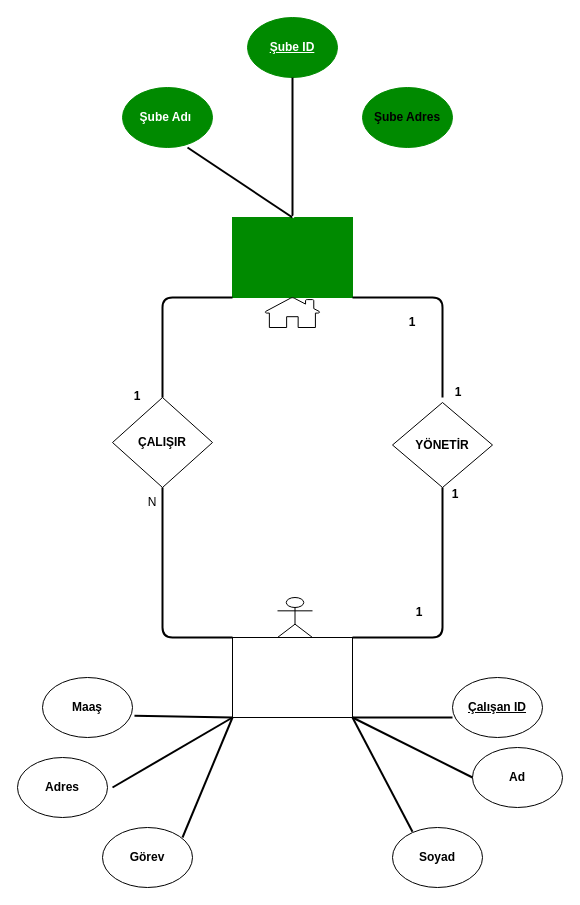
Some shapes in this 580 by 905 pixel diagram are drawn without their labels. The shapes that lost their labels are listed below. From the top down, each one's centre as x and y in pixels, then its label:
At point (292, 257): "ŞUBE".
At point (292, 677): "ÇALIŞAN".
